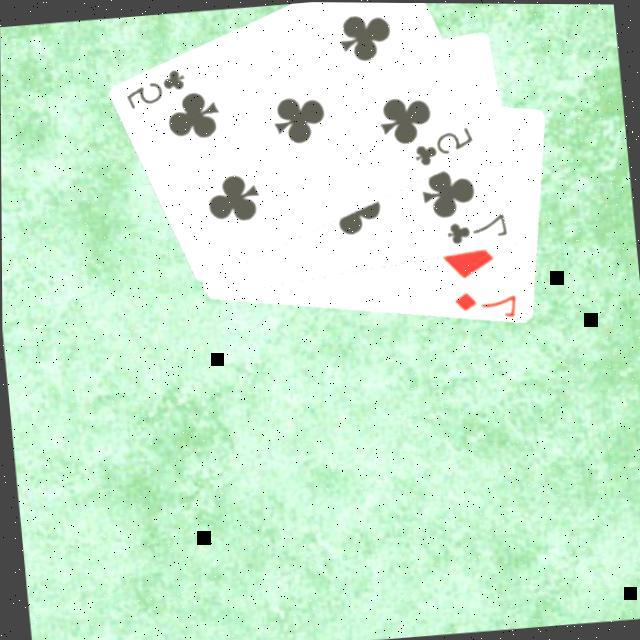5C: (120, 66, 190, 114), (408, 123, 477, 171)
7C: (441, 209, 511, 249)
7D: (449, 285, 521, 323)
